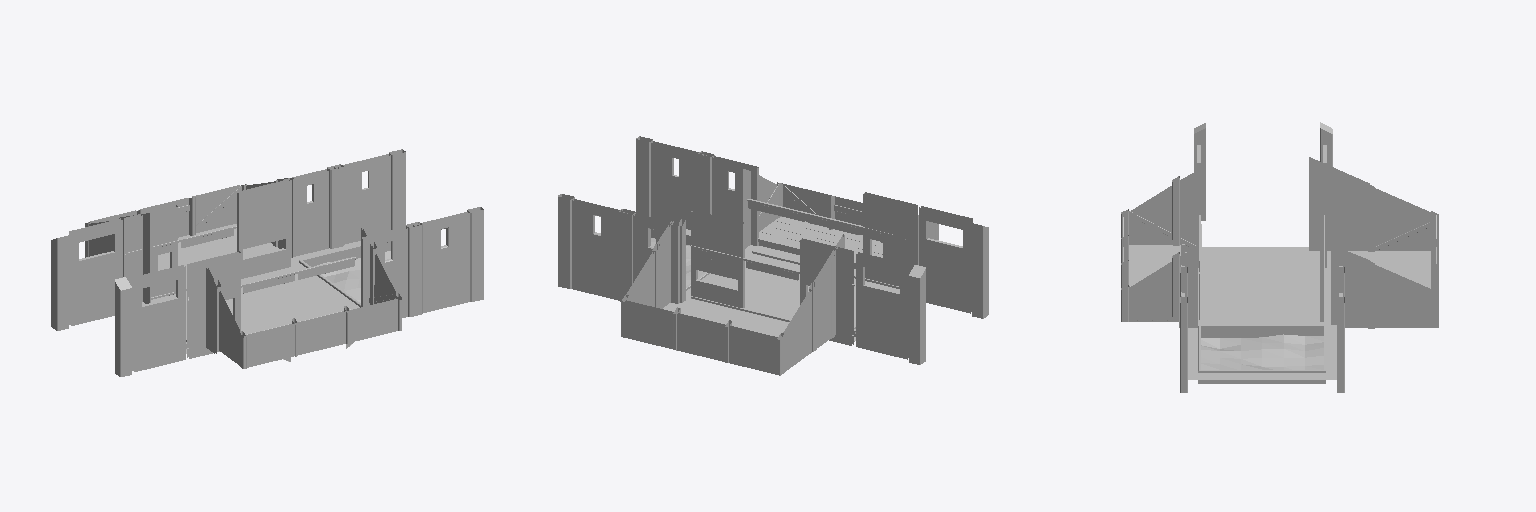
The model's file is PlayerHouse.obj.
The picture shows the model from 3 angles: view 1: azimuth 30°, elevation 25°; view 2: azimuth 150°, elevation 25°; view 3: azimuth 270°, elevation 25°; orthographic projection.
Visible parts, largest first — view 1: Cube.019_Cube.055, Plane.004_Plane.013, FirePitPatch_Plane.017; view 2: Cube.019_Cube.055, Plane.004_Plane.013; view 3: Cube.019_Cube.055, Plane.004_Plane.013, FirePitPatch_Plane.017.
Boxes of the visible parts, <box> form: Cube.019_Cube.055: <box>69,154,469,371</box>; Plane.004_Plane.013: <box>51,149,483,376</box>; FirePitPatch_Plane.017: <box>317,251,390,302</box>; Cube.019_Cube.055: <box>572,141,972,374</box>; Plane.004_Plane.013: <box>558,136,988,375</box>; Cube.019_Cube.055: <box>1129,145,1433,383</box>; Plane.004_Plane.013: <box>1121,122,1438,392</box>; FirePitPatch_Plane.017: <box>1201,334,1323,369</box>.
Bounding box in the file's own units: 25.8 × 7.51 × 19.9.